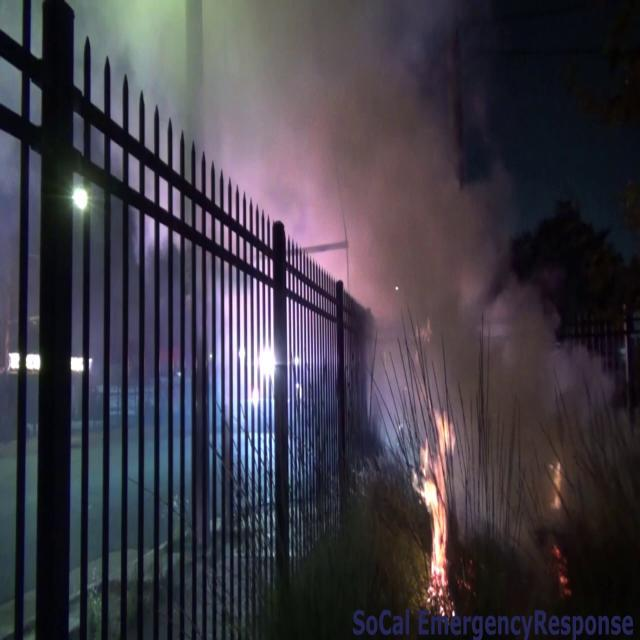Fire: (416, 402, 458, 598)
Smoke: (375, 174, 629, 559), (199, 0, 508, 295)
